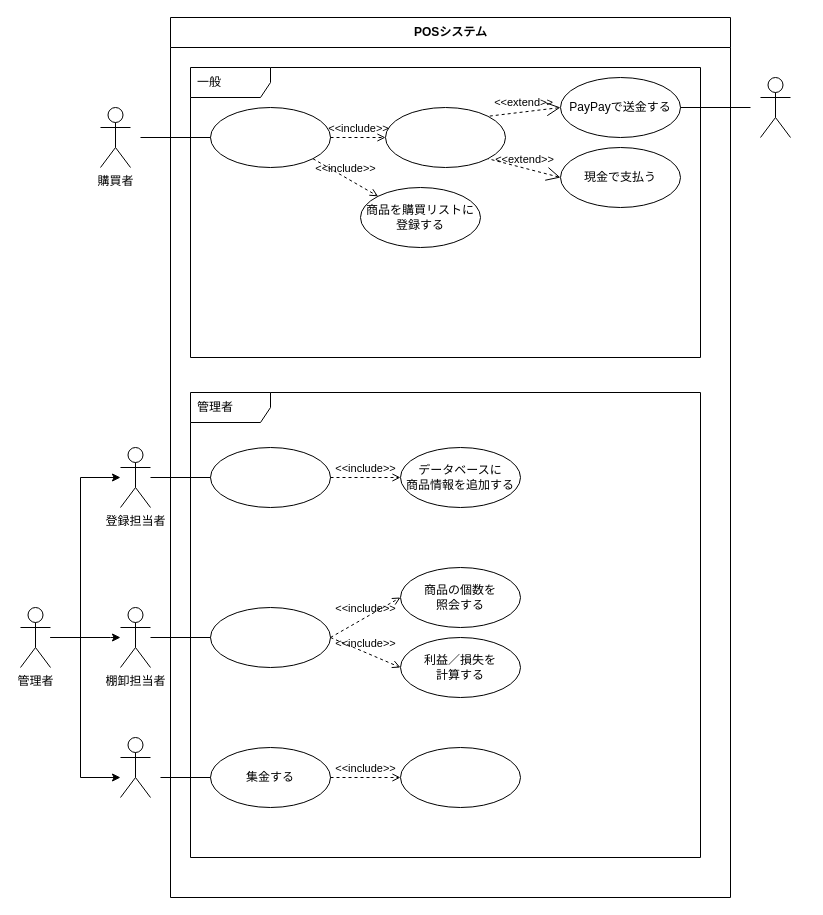
This 823x915 diagram has some shape labels left out. Each missing label, with the centre of its shape:
"PayPayAPI" belongs at (775,107).
"つけ表と手数料を 計算する" belongs at (460,777).
"代金を支払う" belongs at (445,137).
"商品を登録する" belongs at (270,477).
"棚卸をする" belongs at (270,637).
"購買する" belongs at (270,137).
"集金担当者" belongs at (135,767).
